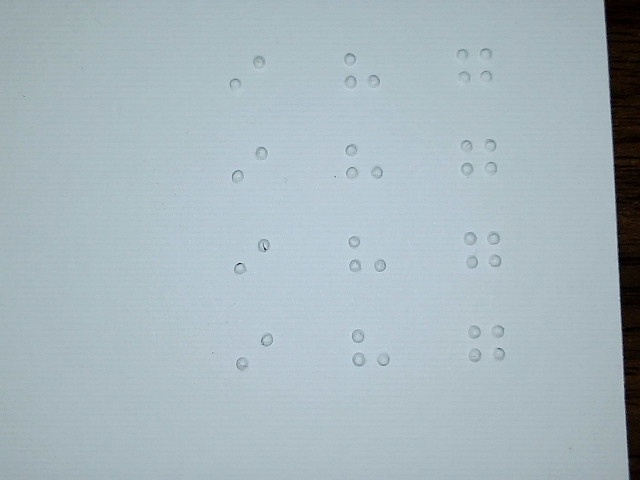G: (455, 36, 495, 106), (459, 127, 499, 197), (463, 219, 503, 289), (467, 311, 507, 381)
H: (342, 42, 382, 112), (344, 134, 384, 204), (346, 224, 386, 294), (350, 318, 390, 388)
I: (228, 43, 268, 113), (234, 322, 274, 392)
